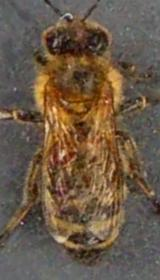varroa_mite: (40, 136, 84, 173)
